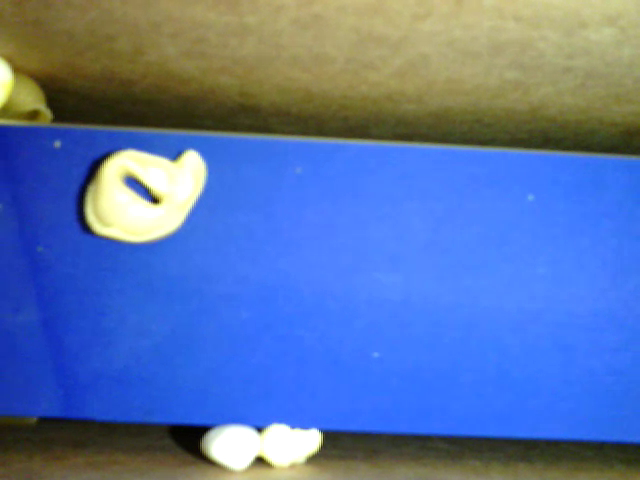shell: (4, 68, 52, 126)
tortellini: (84, 146, 210, 242)
